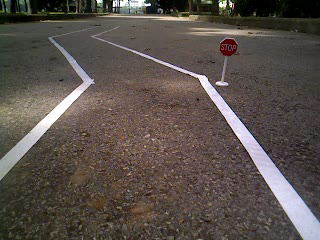Stop: (218, 37, 240, 60)
